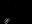person: (4, 17, 10, 23)
